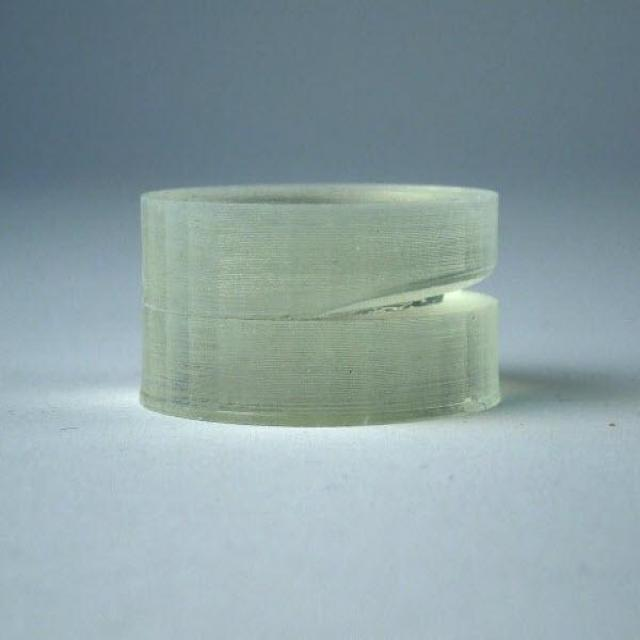spaghetti: (257, 243, 504, 334)
